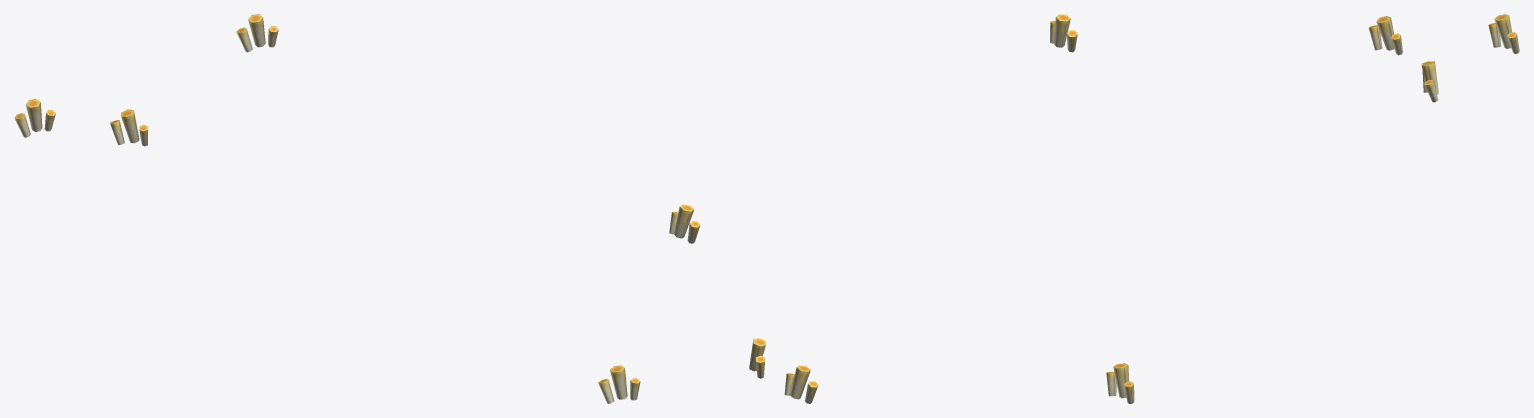
File: Area12_39.fbx
3 renders of one model, left to right at view 1: azimuth 30°, elevation 25°; view 2: azimuth 150°, elevation 25°; view 3: azimuth 330°, elevation 25°, orthographic.
Visible parts, largest first — view 1: Area12_39; view 2: Area12_39; view 3: Area12_39.
Part boxes in pixels (x1=…): Area12_39: x1=14, y1=14, x2=640, y2=403; Area12_39: x1=669, y1=14, x2=1077, y2=403; Area12_39: x1=1106, y1=14, x2=1519, y2=403.
Size of the model in its own units: 300 by 175 by 1108.
